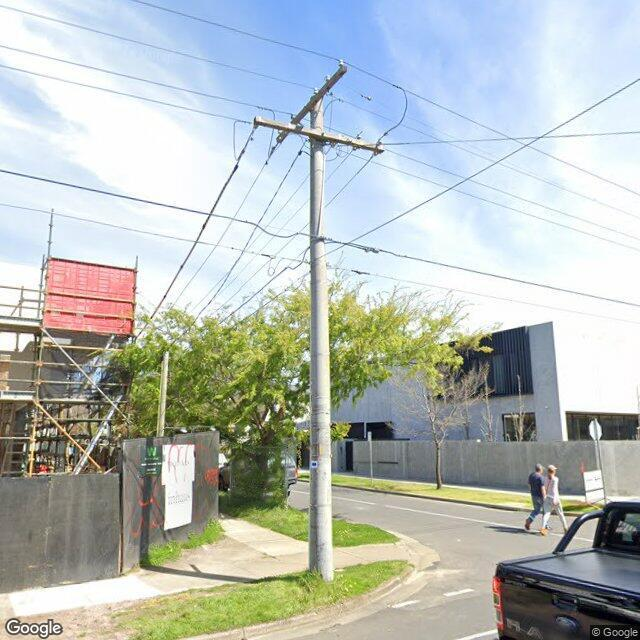concrete-pole: (309, 95, 333, 582)
crossarm: (277, 65, 347, 144), (254, 117, 384, 153)
steel-pole: (595, 419, 607, 503)
